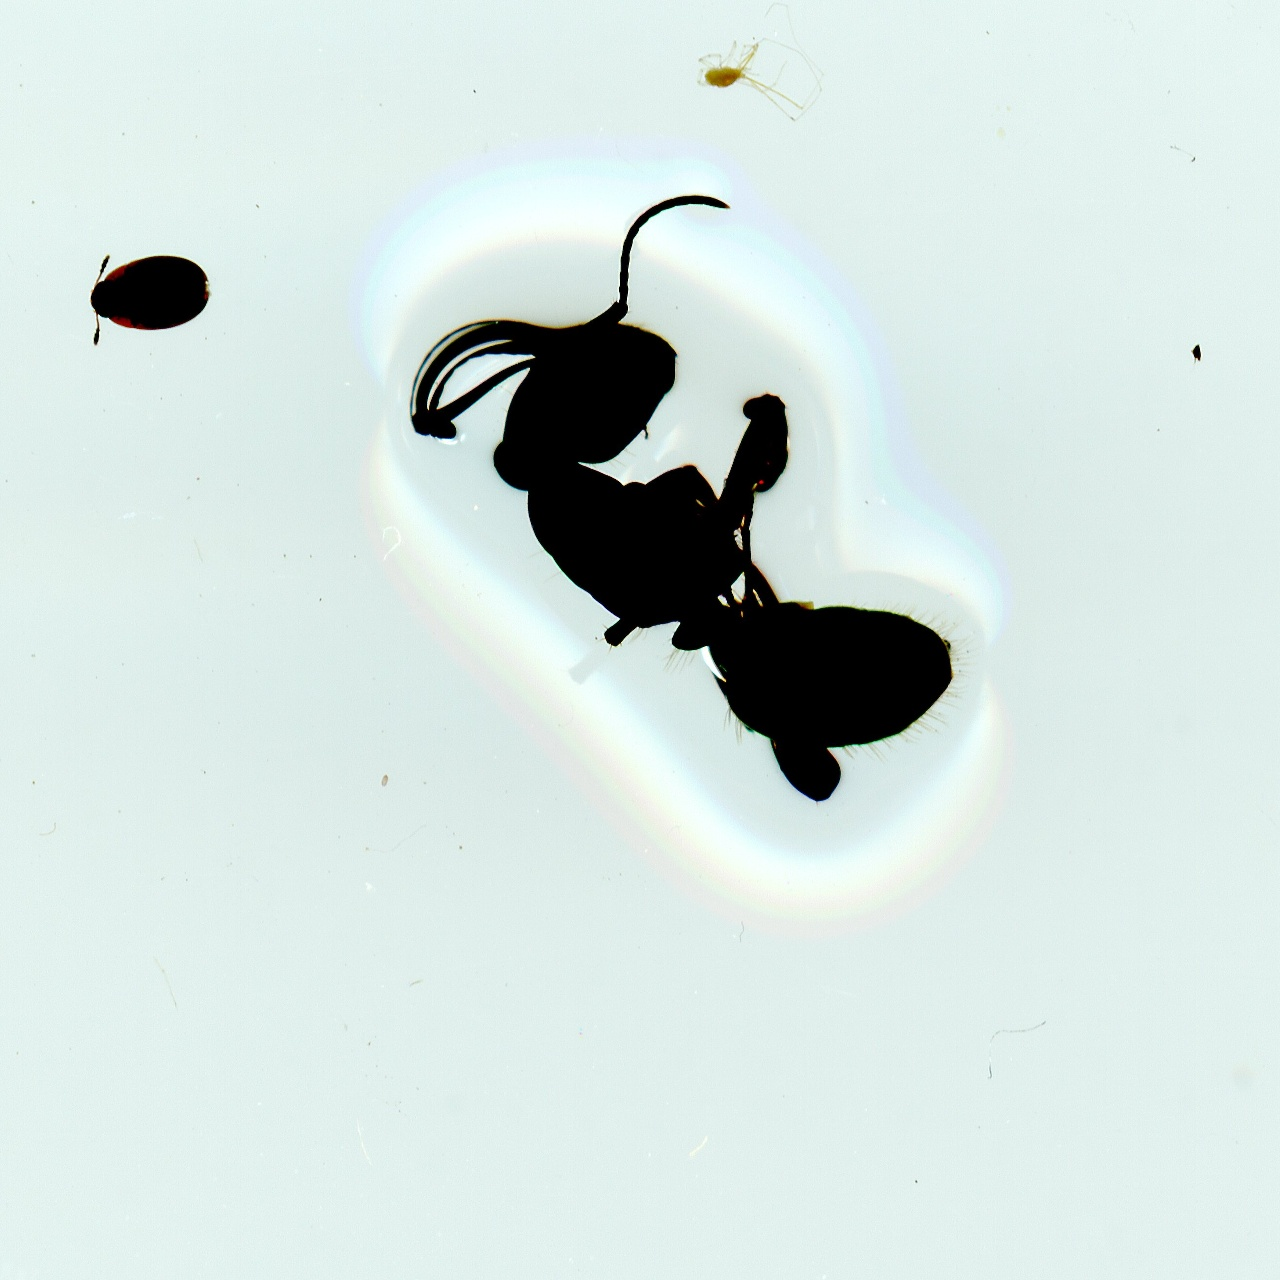arthropod: (342, 143, 1039, 921), (690, 0, 831, 128), (86, 234, 222, 350)
